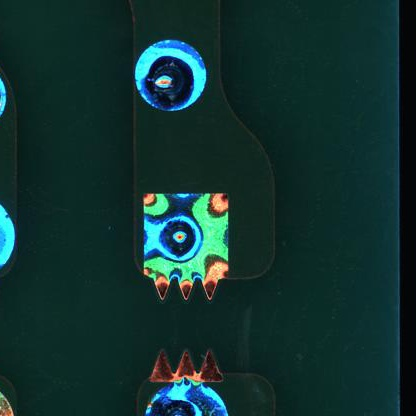spot: (135, 182, 242, 307), (128, 32, 217, 117)
